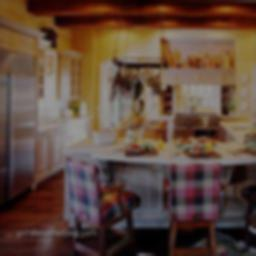Electrodomestico: (1, 50, 36, 195)
